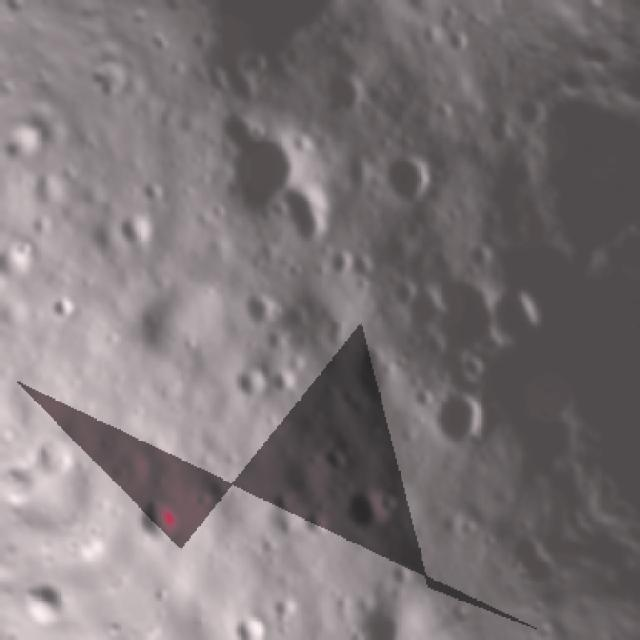crater: (193, 109, 322, 233), (406, 254, 522, 371), (260, 162, 358, 258), (367, 134, 450, 218), (473, 269, 555, 354), (334, 574, 437, 640), (423, 380, 502, 458), (122, 482, 193, 553), (334, 472, 400, 540), (207, 99, 267, 158), (220, 353, 277, 412), (0, 229, 46, 294), (342, 328, 396, 383), (109, 200, 162, 254), (232, 278, 286, 331), (218, 595, 280, 640), (374, 548, 426, 600), (473, 100, 524, 152), (506, 84, 554, 136), (316, 238, 366, 287), (261, 580, 308, 628), (340, 237, 386, 285), (260, 356, 308, 402), (378, 268, 424, 314), (455, 232, 500, 277), (41, 285, 82, 327), (316, 439, 353, 478), (134, 170, 171, 208), (440, 21, 475, 56), (457, 348, 488, 381), (368, 0, 404, 3)
